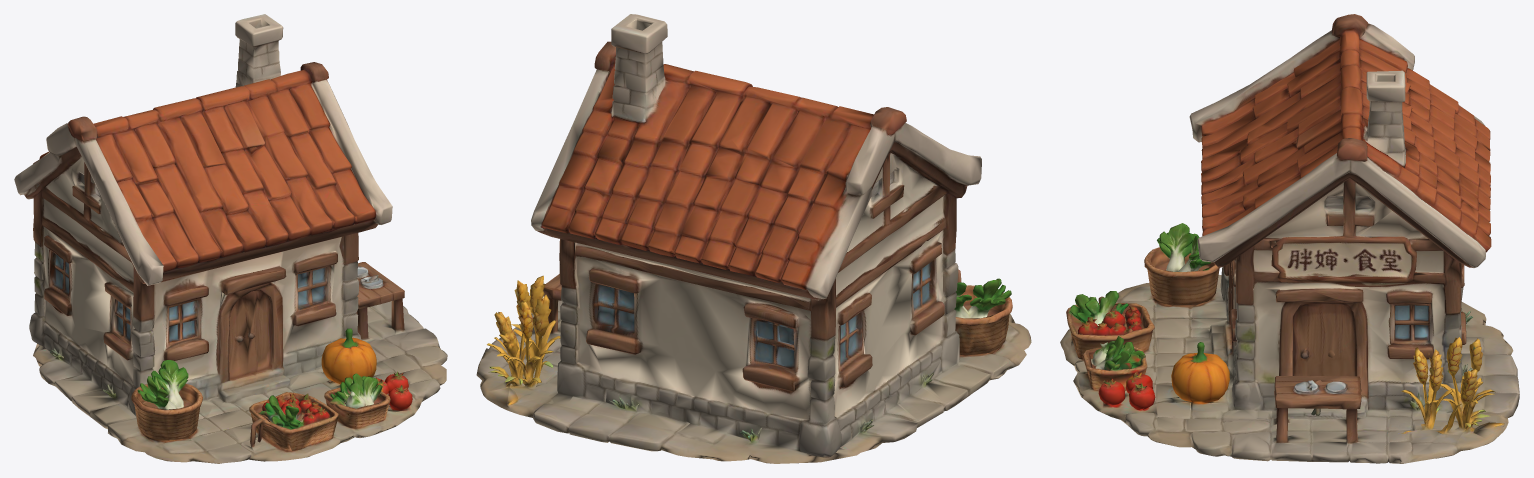
File: bld_inn.glb
3 renders of one model, left to right at view 1: azimuth 30°, elevation 25°; view 2: azimuth 150°, elevation 25°; view 3: azimuth 270°, elevation 25°, orthographic. The views are drawn at different scales.
Visible parts, largest first — view 1: tripo_node_464e6000-deff-4ec5-aab8-375cf18a7156; view 2: tripo_node_464e6000-deff-4ec5-aab8-375cf18a7156; view 3: tripo_node_464e6000-deff-4ec5-aab8-375cf18a7156.
Boxes of the visible parts, left/top/right/bottom form: tripo_node_464e6000-deff-4ec5-aab8-375cf18a7156: left=14, top=14, right=447, bottom=463; tripo_node_464e6000-deff-4ec5-aab8-375cf18a7156: left=476, top=14, right=1031, bottom=463; tripo_node_464e6000-deff-4ec5-aab8-375cf18a7156: left=1060, top=14, right=1519, bottom=463.
Bounding box in the file's own units: 0.9487 × 0.781 × 0.9989.
1 material, 1 textured.
